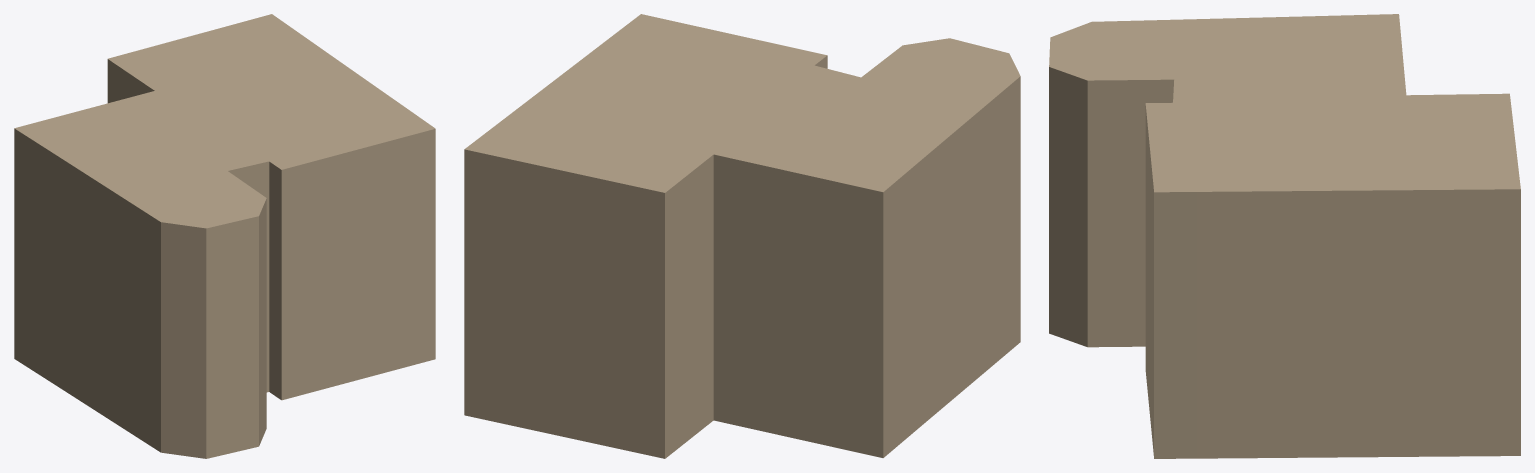
The model's file is bld_99615943.dae.
3 views of the same model, side by side, from view 1: azimuth 30°, elevation 25°; view 2: azimuth 150°, elevation 25°; view 3: azimuth 270°, elevation 25° (orthographic). The views are drawn at different scales.
Visible parts, largest first — view 1: bld_99615943; view 2: bld_99615943; view 3: bld_99615943.
Boxes of the visible parts, x1,y1,x2,y2 form: bld_99615943: (14, 14, 435, 458); bld_99615943: (464, 14, 1020, 458); bld_99615943: (1049, 14, 1520, 458).
Bounding box in the file's own units: 11.47 × 12.83 × 8.
